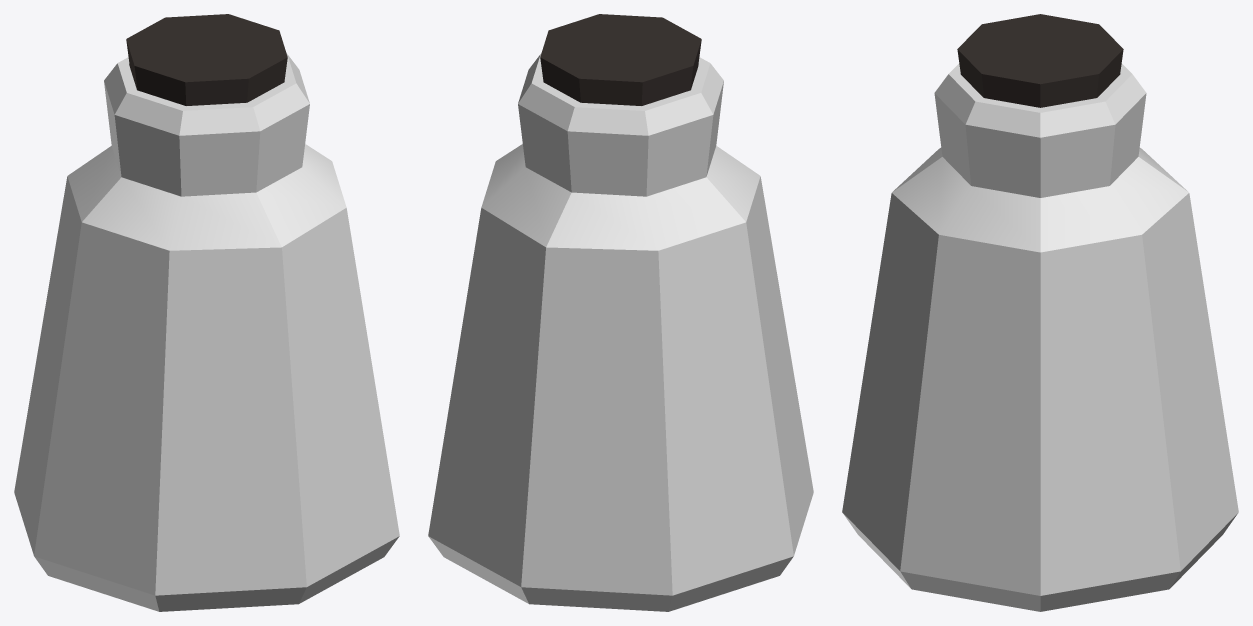
File: dye-bottle-1.fbx
3 views of the same model, side by side, from view 1: azimuth 30°, elevation 25°; view 2: azimuth 150°, elevation 25°; view 3: azimuth 270°, elevation 25° (orthographic).
Visible parts, largest first — view 1: dye-bottle-1; view 2: dye-bottle-1; view 3: dye-bottle-1.
Boxes of the visible parts, left/top/right/bottom form: dye-bottle-1: left=14, top=14, right=399, bottom=611; dye-bottle-1: left=428, top=14, right=813, bottom=611; dye-bottle-1: left=842, top=14, right=1238, bottom=611.
Bounding box in the file's own units: 11.71 × 15.81 × 11.71.
Materials: 3 (1 with a texture image).
